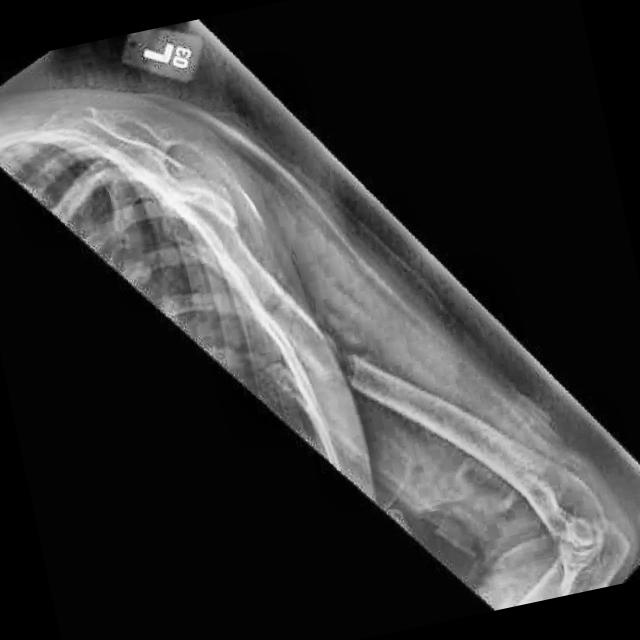humerus: (288, 286, 431, 444)
